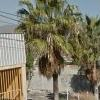Tree: (22, 0, 100, 88)
